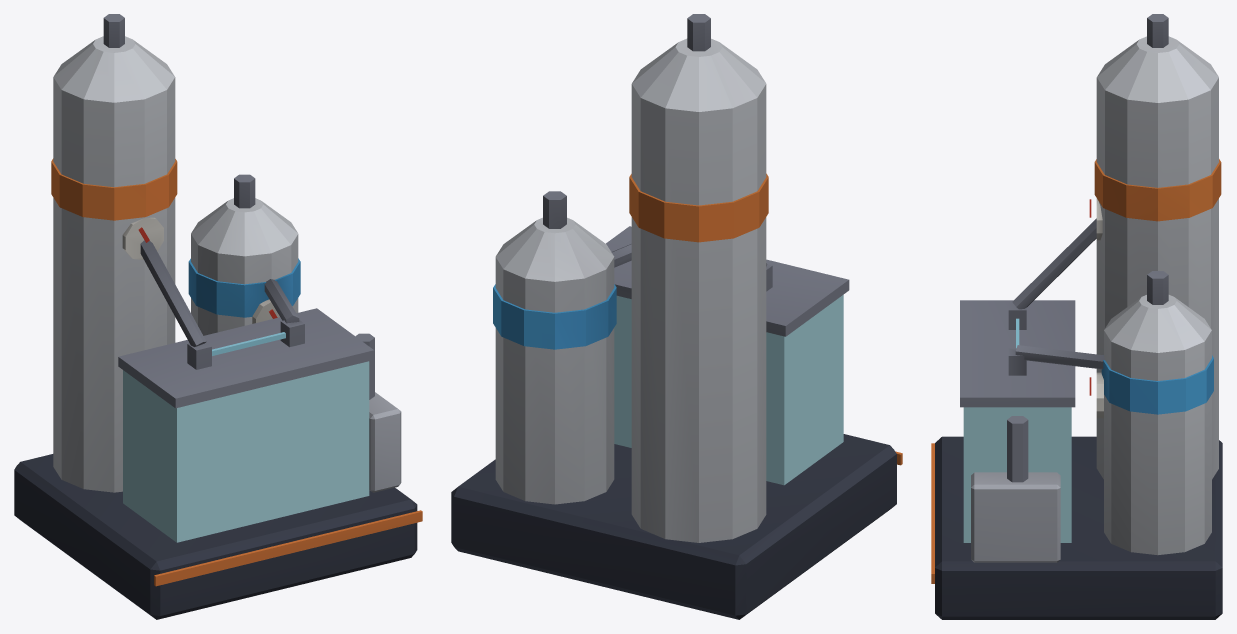
The model's file is electrolyzer.glb.
3 views of the same model, side by side, from view 1: azimuth 30°, elevation 25°; view 2: azimuth 150°, elevation 25°; view 3: azimuth 270°, elevation 25° (orthographic). The views are drawn at different scales.
Visible parts, largest first — view 1: electrolyzer, glass_tub; view 2: electrolyzer, glass_tub; view 3: electrolyzer, glass_tub, piston.
Boxes of the visible parts, x1=… form: electrolyzer: x1=14, y1=14, x2=422, y2=619; glass_tub: x1=123, y1=361, x2=369, y2=542; electrolyzer: x1=451, y1=14, x2=902, y2=619; glass_tub: x1=614, y1=295, x2=843, y2=485; electrolyzer: x1=931, y1=14, x2=1222, y2=619; glass_tub: x1=963, y1=407, x2=1071, y2=542; piston: x1=1007, y1=416, x2=1028, y2=482.
Bounding box in the file's own units: 0.86 × 1.56 × 0.81.
